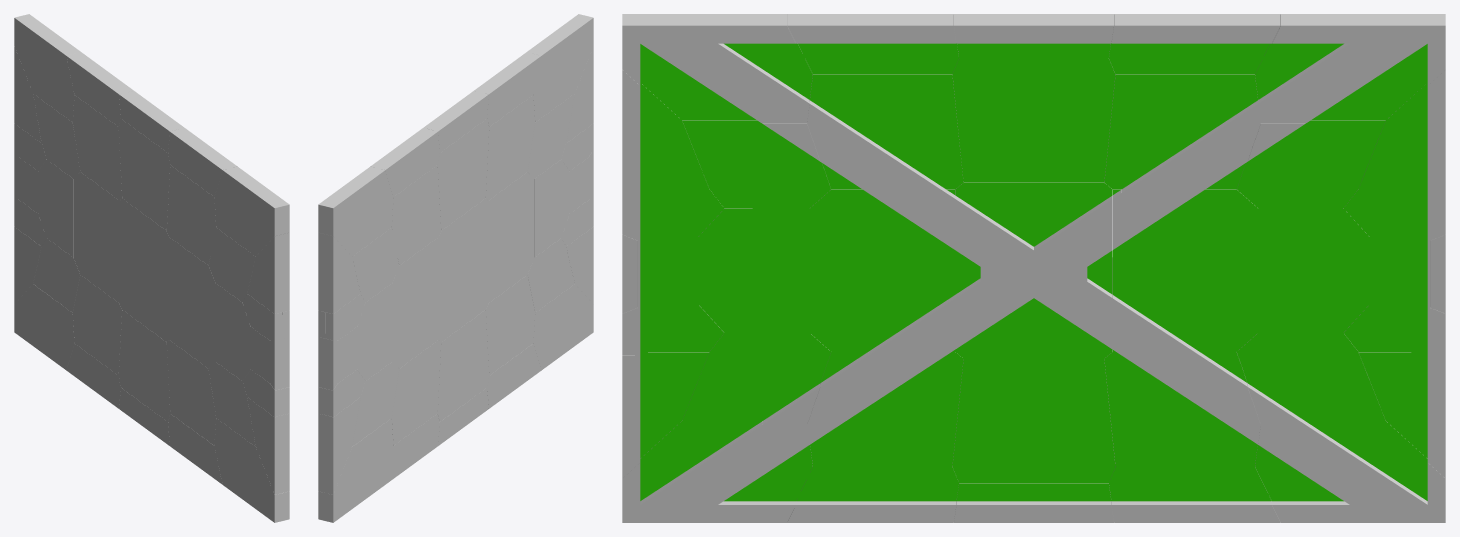
File: Shattered_Barred_Door.fbx
The picture shows the model from 3 angles, left to right: view 1: azimuth 30°, elevation 25°; view 2: azimuth 150°, elevation 25°; view 3: azimuth 270°, elevation 25°; orthographic projection. The views are drawn at different scales.
Visible parts, largest first — view 1: Shattered Barred Door_cell.041, Shattered Barred Door_cell.040, Shattered Barred Door_cell.042, Shattered Barred Door_cell.053, Shattered Barred Door_cell.056, Shattered Barred Door_cell.048, Shattered Barred Door_cell.034, Shattered Barred Door_cell.025, Shattered Barred Door_cell.033, Shattered Barred Door_cell.049, Shattered Barred Door_cell.047, Shattered Barred Door_cell.035 (+24 smaller); view 2: Shattered Barred Door_cell.041, Shattered Barred Door_cell.042, Shattered Barred Door_cell.040, Shattered Barred Door_cell.056, Shattered Barred Door_cell.053, Shattered Barred Door_cell.034, Shattered Barred Door_cell.048, Shattered Barred Door_cell.029, Shattered Barred Door_cell.035, Shattered Barred Door_cell.047, Shattered Barred Door_cell.049, Shattered Barred Door_cell.033 (+24 smaller); view 3: Shattered Barred Door_cell.012, Shattered Barred Door_cell.011, Shattered Barred Door_cell.013, Shattered Barred Door_cell.020, Shattered Barred Door_cell.005, Shattered Barred Door_cell.056, Shattered Barred Door_cell.053, Shattered Barred Door_cell.006, Shattered Barred Door_cell.004, Shattered Barred Door_cell.025, Shattered Barred Door_cell.029, Shattered Barred Door_cell.021 (+25 smaller).
Part boxes in pixels (left/top/right/bottom): Shattered Barred Door_cell.041: left=119, top=198, right=169, bottom=341; Shattered Barred Door_cell.040: left=169, top=237, right=215, bottom=368; Shattered Barred Door_cell.042: left=73, top=172, right=119, bottom=303; Shattered Barred Door_cell.053: left=214, top=166, right=289, bottom=256; Shattered Barred Door_cell.056: left=14, top=14, right=80, bottom=121; Shattered Barred Door_cell.048: left=118, top=119, right=170, bottom=230; Shattered Barred Door_cell.034: left=118, top=310, right=170, bottom=421; Shattered Barred Door_cell.025: left=214, top=418, right=289, bottom=522; Shattered Barred Door_cell.033: left=166, top=340, right=216, bottom=445; Shattered Barred Door_cell.049: left=72, top=95, right=122, bottom=200; Shattered Barred Door_cell.047: left=166, top=165, right=216, bottom=265; Shattered Barred Door_cell.035: left=72, top=275, right=122, bottom=375; Shattered Barred Door_cell.041: left=438, top=198, right=488, bottom=341; Shattered Barred Door_cell.042: left=392, top=237, right=438, bottom=368; Shattered Barred Door_cell.040: left=488, top=172, right=534, bottom=303; Shattered Barred Door_cell.056: left=318, top=166, right=393, bottom=256; Shattered Barred Door_cell.053: left=527, top=14, right=593, bottom=121; Shattered Barred Door_cell.034: left=437, top=310, right=489, bottom=421; Shattered Barred Door_cell.048: left=437, top=119, right=489, bottom=230; Shattered Barred Door_cell.029: left=318, top=418, right=393, bottom=522; Shattered Barred Door_cell.035: left=391, top=340, right=441, bottom=445; Shattered Barred Door_cell.047: left=485, top=95, right=535, bottom=200; Shattered Barred Door_cell.049: left=391, top=165, right=441, bottom=265; Shattered Barred Door_cell.033: left=485, top=275, right=535, bottom=375; Shattered Barred Door_cell.012: left=955, top=182, right=1112, bottom=358; Shattered Barred Door_cell.011: left=809, top=189, right=955, bottom=355; Shattered Barred Door_cell.013: left=1113, top=189, right=1258, bottom=355; Shattered Barred Door_cell.020: left=952, top=358, right=1115, bottom=482; Shattered Barred Door_cell.005: left=952, top=58, right=1115, bottom=182; Shattered Barred Door_cell.056: left=1255, top=14, right=1445, bottom=123; Shattered Barred Door_cell.053: left=622, top=14, right=812, bottom=123; Shattered Barred Door_cell.006: left=1104, top=74, right=1260, bottom=192; Shattered Barred Door_cell.004: left=807, top=74, right=963, bottom=192; Shattered Barred Door_cell.025: left=622, top=421, right=812, bottom=522; Shattered Barred Door_cell.029: left=1255, top=421, right=1445, bottom=522; Shattered Barred Door_cell.021: left=1104, top=350, right=1260, bottom=466.
Size of the model in its own units: 40 by 800 by 1200.
